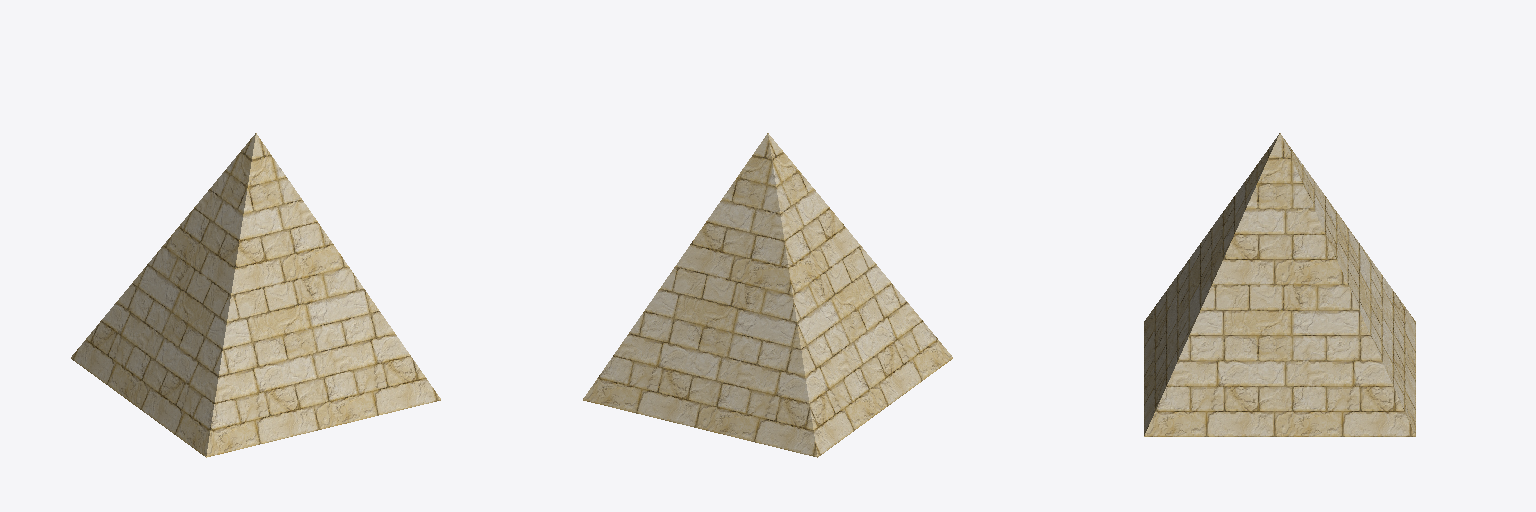
The picture shows the model from 3 angles: view 1: azimuth 30°, elevation 25°; view 2: azimuth 150°, elevation 25°; view 3: azimuth 270°, elevation 25°; orthographic projection.
Visible parts, largest first — view 1: pyramid; view 2: pyramid; view 3: pyramid.
Boxes of the visible parts, box(x1,y1,x2,y2) form: pyramid: box(71, 133, 440, 457); pyramid: box(583, 133, 952, 457); pyramid: box(1144, 133, 1415, 436).
Size of the model in its own units: 20 by 20 by 20.
Materials: 1 (1 with a texture image).